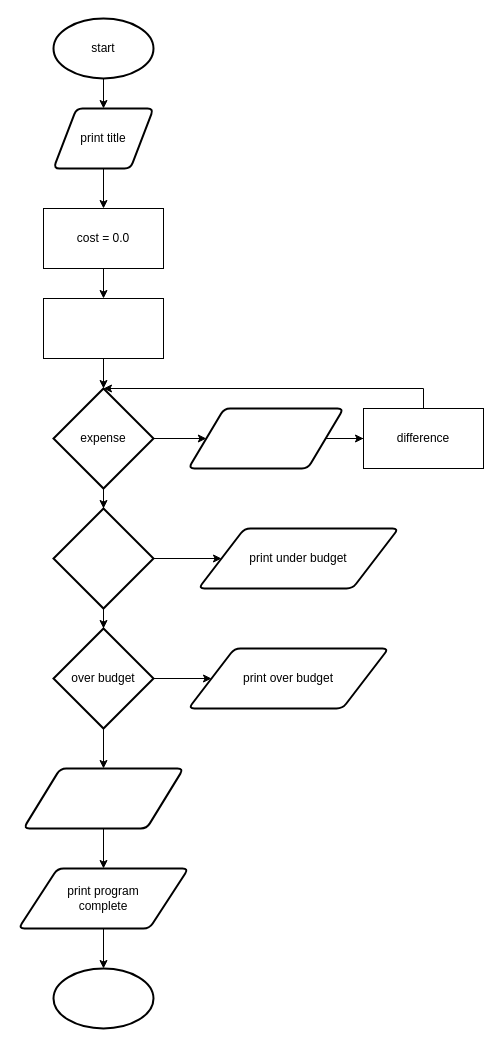
This 501x1046 diagram has some shape labels left out. The shapes that lost their labels are listed below. From the top down, each one's box as (x1, y1, x2, y2) in pixels, then its label:
(42, 298, 164, 358): budget = 0.0
(187, 407, 344, 469): get expense
(52, 507, 154, 609): under buget
(22, 767, 184, 829): print total
(52, 967, 154, 1029): end
